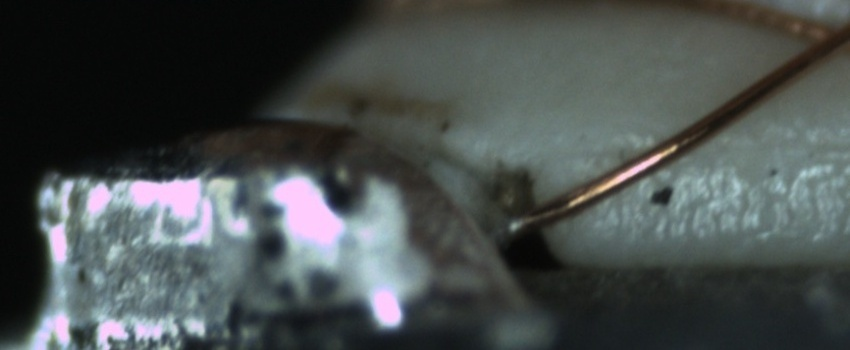CL: (779, 4, 847, 69)
DL: (605, 110, 850, 185)
